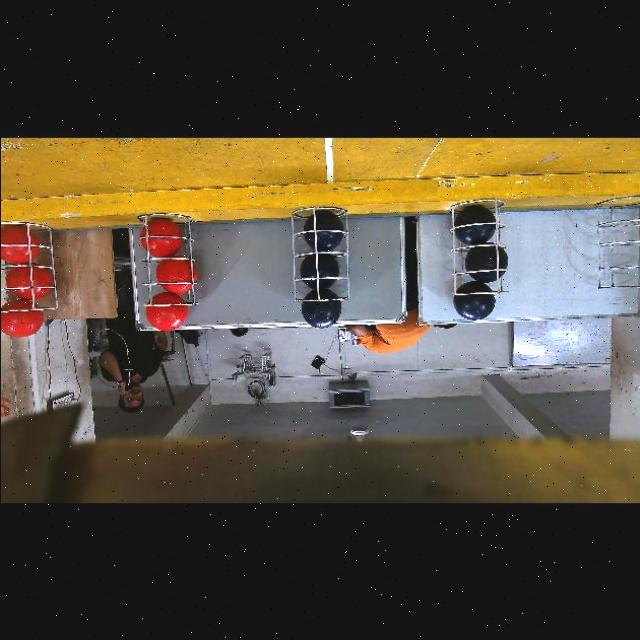P: (301, 288, 341, 328), (453, 281, 494, 320), (452, 206, 494, 244), (465, 244, 507, 282), (303, 212, 342, 250), (299, 252, 337, 288)
R: (0, 228, 44, 266), (0, 299, 43, 337), (145, 292, 186, 330), (143, 218, 180, 258), (6, 266, 50, 298), (158, 258, 195, 294)
S: (287, 204, 349, 304), (450, 198, 512, 292), (0, 224, 60, 314), (136, 222, 194, 314), (588, 200, 640, 290), (588, 193, 640, 277), (596, 200, 626, 258)
